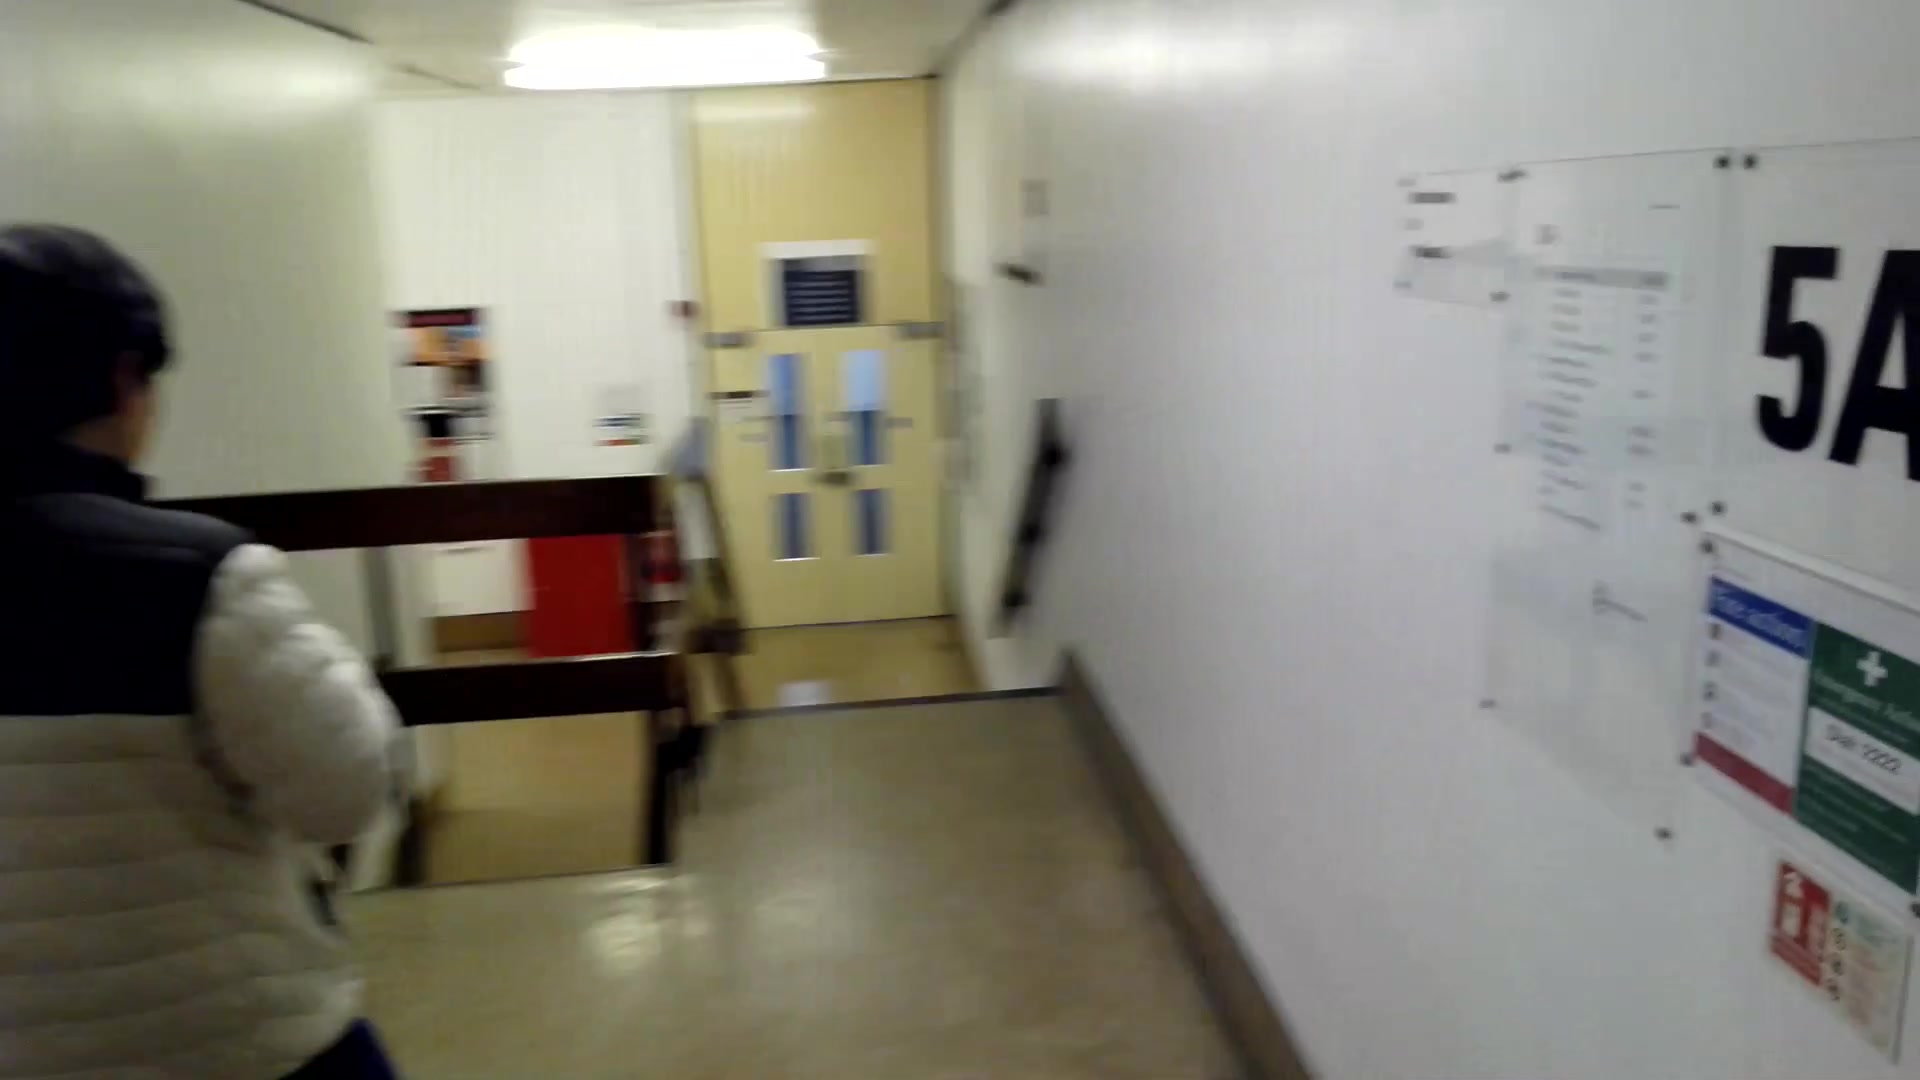Door: (692, 329, 984, 646)
Person: (1, 221, 345, 1080)
